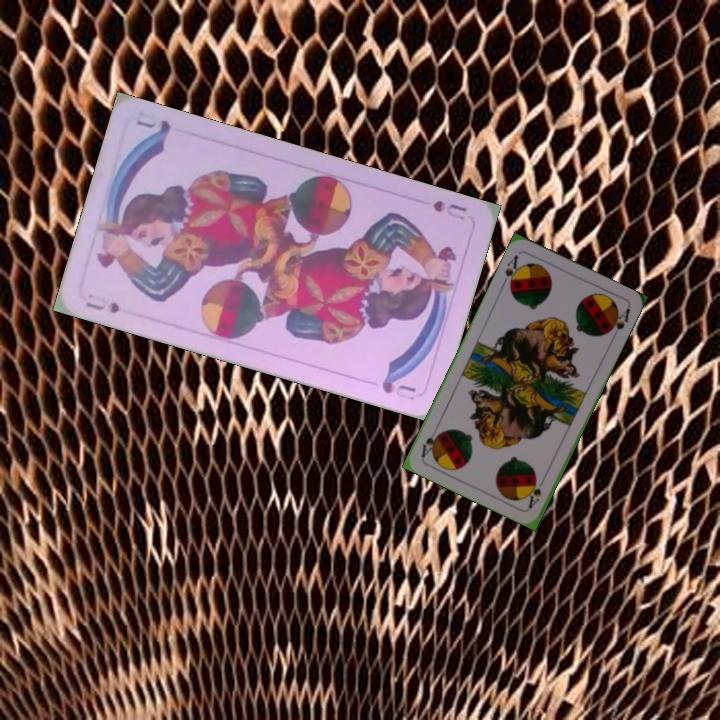SA: (498, 250, 523, 291), (524, 477, 544, 511)
SU: (429, 196, 470, 223), (81, 297, 123, 316)
